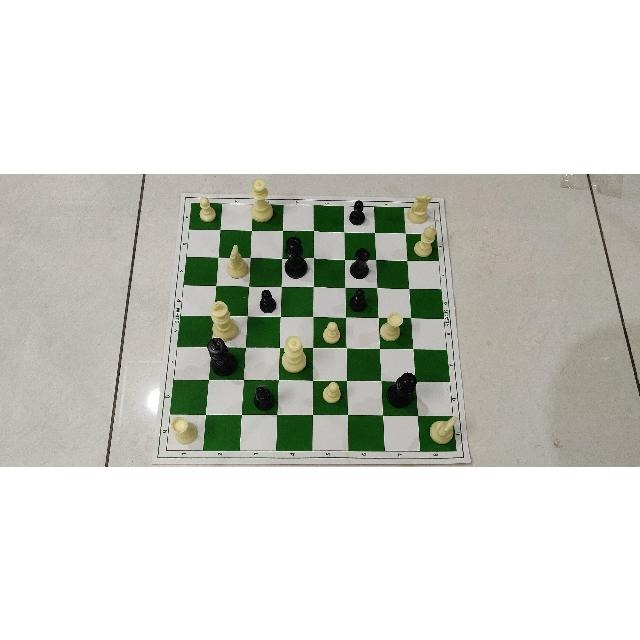black-bishop: (252, 382, 279, 410), (252, 384, 276, 411), (253, 384, 276, 411)
black-king: (206, 336, 237, 376), (204, 336, 239, 371), (350, 288, 368, 312)
black-pawn: (257, 288, 278, 313), (348, 287, 367, 312), (348, 199, 366, 225), (348, 288, 367, 312), (259, 287, 277, 312), (259, 288, 277, 313), (348, 199, 365, 225)
black-queen: (386, 368, 420, 406), (386, 368, 419, 407), (283, 237, 311, 279), (283, 237, 310, 279)
black-rook: (349, 245, 370, 277), (349, 246, 370, 277)
white-bishop: (410, 223, 441, 255), (413, 223, 437, 257), (413, 224, 437, 258)
white-king: (204, 298, 240, 340), (209, 298, 239, 341), (209, 299, 239, 341)
white-knight: (429, 412, 463, 448), (223, 240, 250, 280), (406, 195, 438, 224), (428, 415, 458, 445), (428, 415, 457, 445), (226, 243, 250, 278), (406, 192, 433, 223), (226, 244, 249, 280), (406, 192, 432, 223)
white-pawn: (196, 193, 218, 223), (198, 195, 216, 222), (198, 195, 215, 222), (323, 380, 341, 405), (322, 320, 340, 344), (322, 381, 340, 405)
white-queen: (248, 175, 276, 226), (248, 175, 275, 226), (278, 332, 309, 371), (280, 333, 307, 374)
white-rook: (170, 415, 198, 446), (380, 310, 406, 343), (170, 415, 198, 445), (170, 416, 198, 444), (380, 310, 404, 342)
